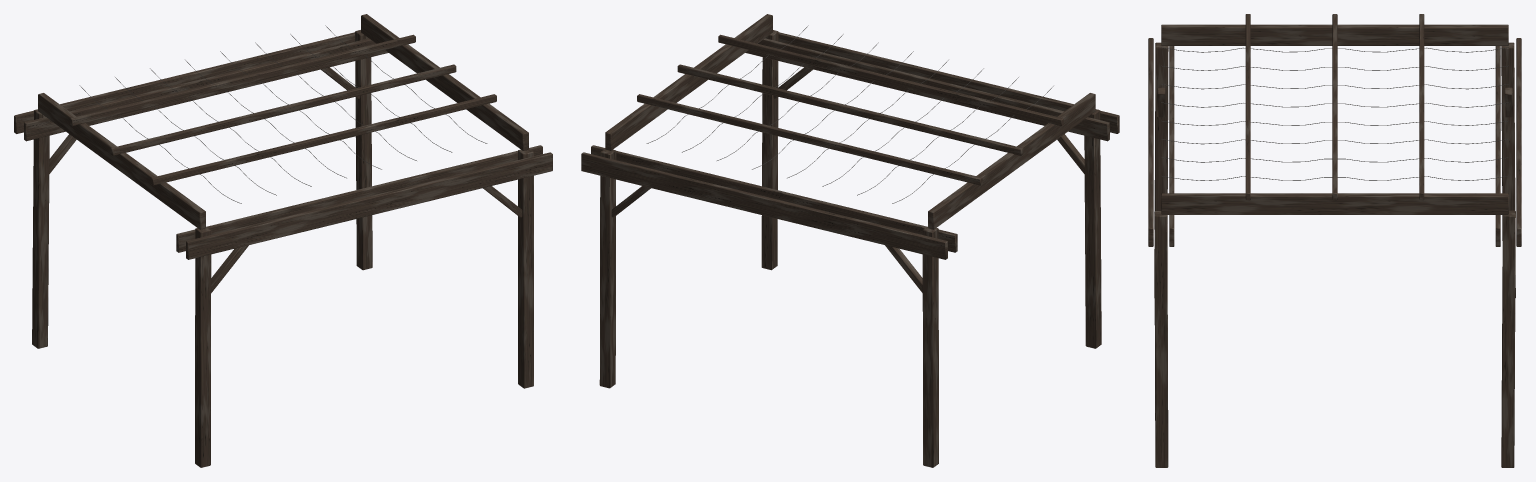
The model's file is arbor.glb.
The picture shows the model from 3 angles, left to right: view 1: azimuth 30°, elevation 25°; view 2: azimuth 150°, elevation 25°; view 3: azimuth 270°, elevation 25°; orthographic projection. The views are drawn at different scales.
Parts seen in each view (by area): view 1: arbor, end_frame; view 2: arbor, end_frame; view 3: arbor, end_frame.
Boxes of the visible parts, bbox=[...] form: arbor: bbox=[38, 14, 552, 467]; end_frame: bbox=[14, 30, 388, 348]; arbor: bbox=[605, 14, 1119, 348]; end_frame: bbox=[581, 145, 957, 467]; arbor: bbox=[1148, 14, 1508, 467]; end_frame: bbox=[1495, 38, 1521, 467].
Size of the model in its own units: 5.2 by 3.53 by 4.3.
Materials: 2 (1 with a texture image).
